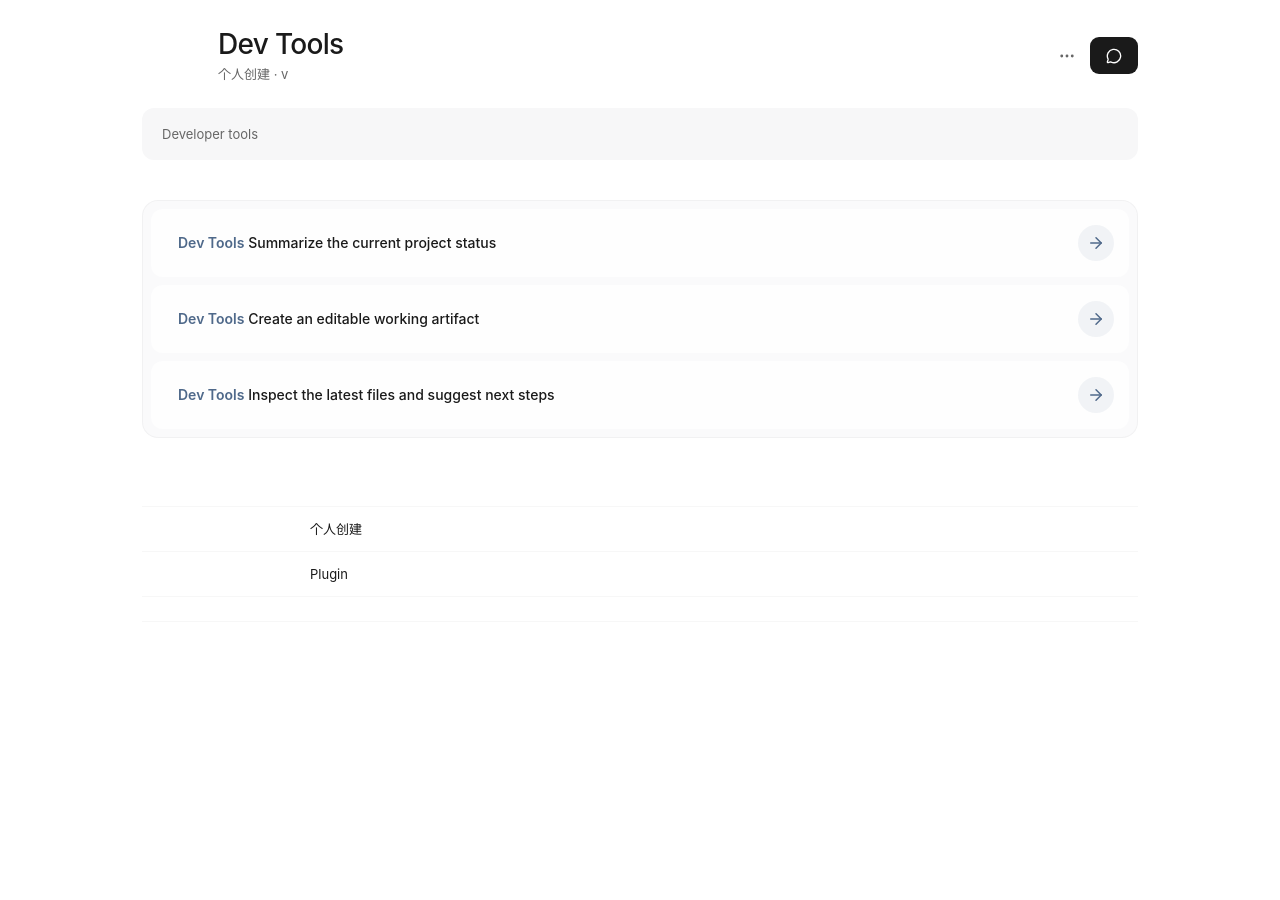
Scenario: PluginDetailView owner actions › closes the overflow menu when clicking outside
Click the button with test id "plugin-detail-actions-local-1" at (1067, 56), box [1052,41,1082,71]
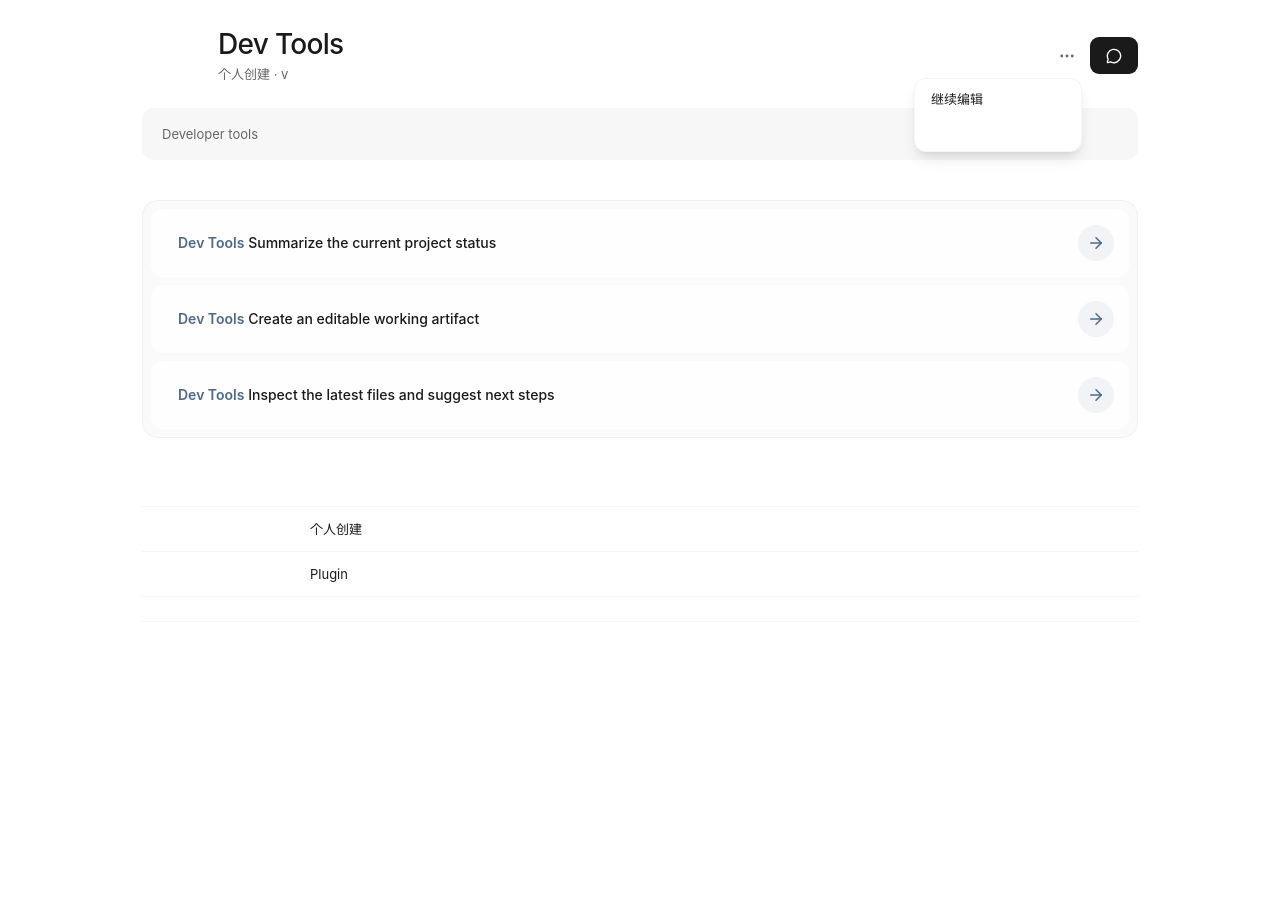
Check: the element with test id "plugin-detail-actions-menu-local-1" is shown, box [914,78,1082,152]
Press the mouse on the element that starts with "Dev Tools" at (640, 339), box [0,0,1279,678]
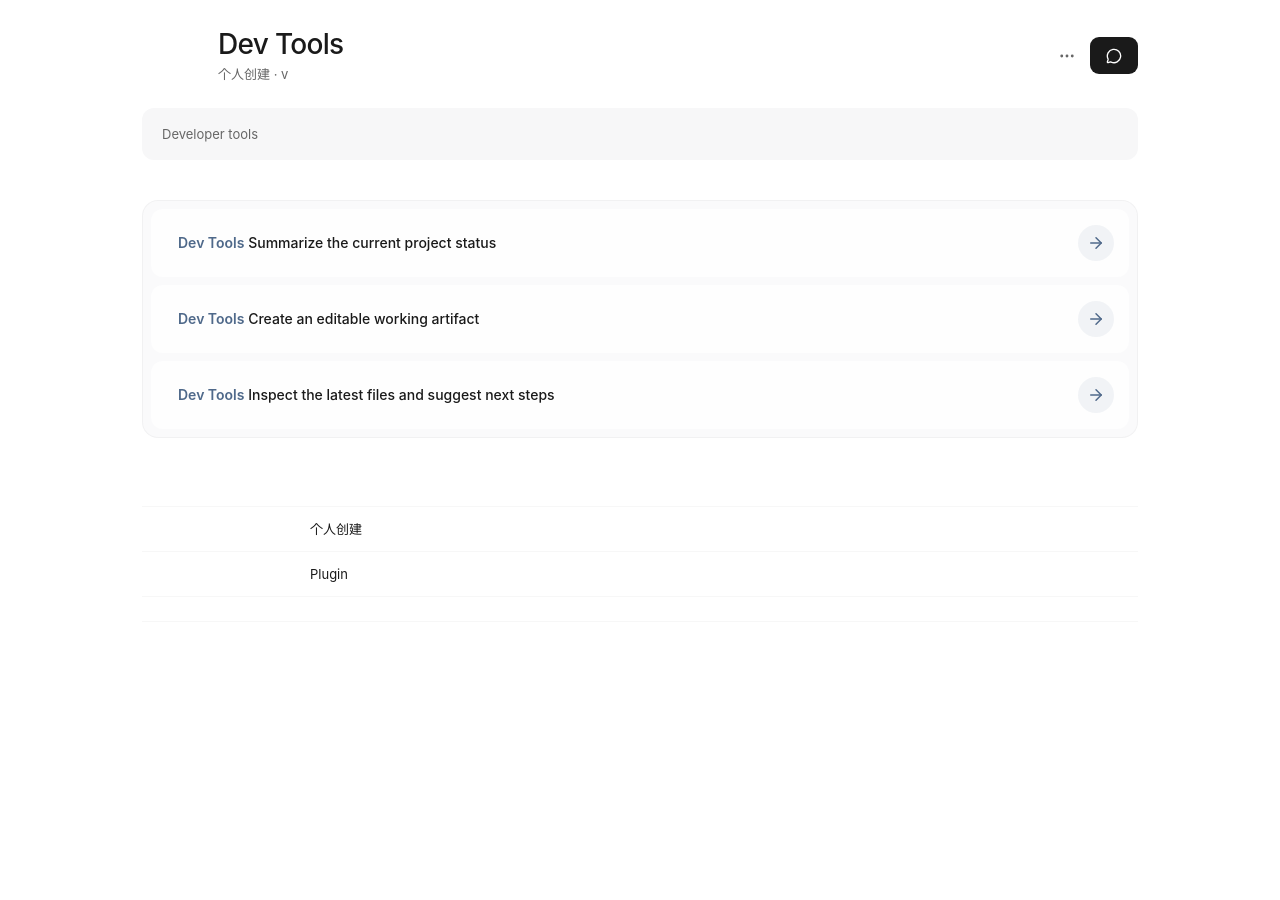
Check: the element with test id "plugin-detail-actions-menu-local-1" is gone
